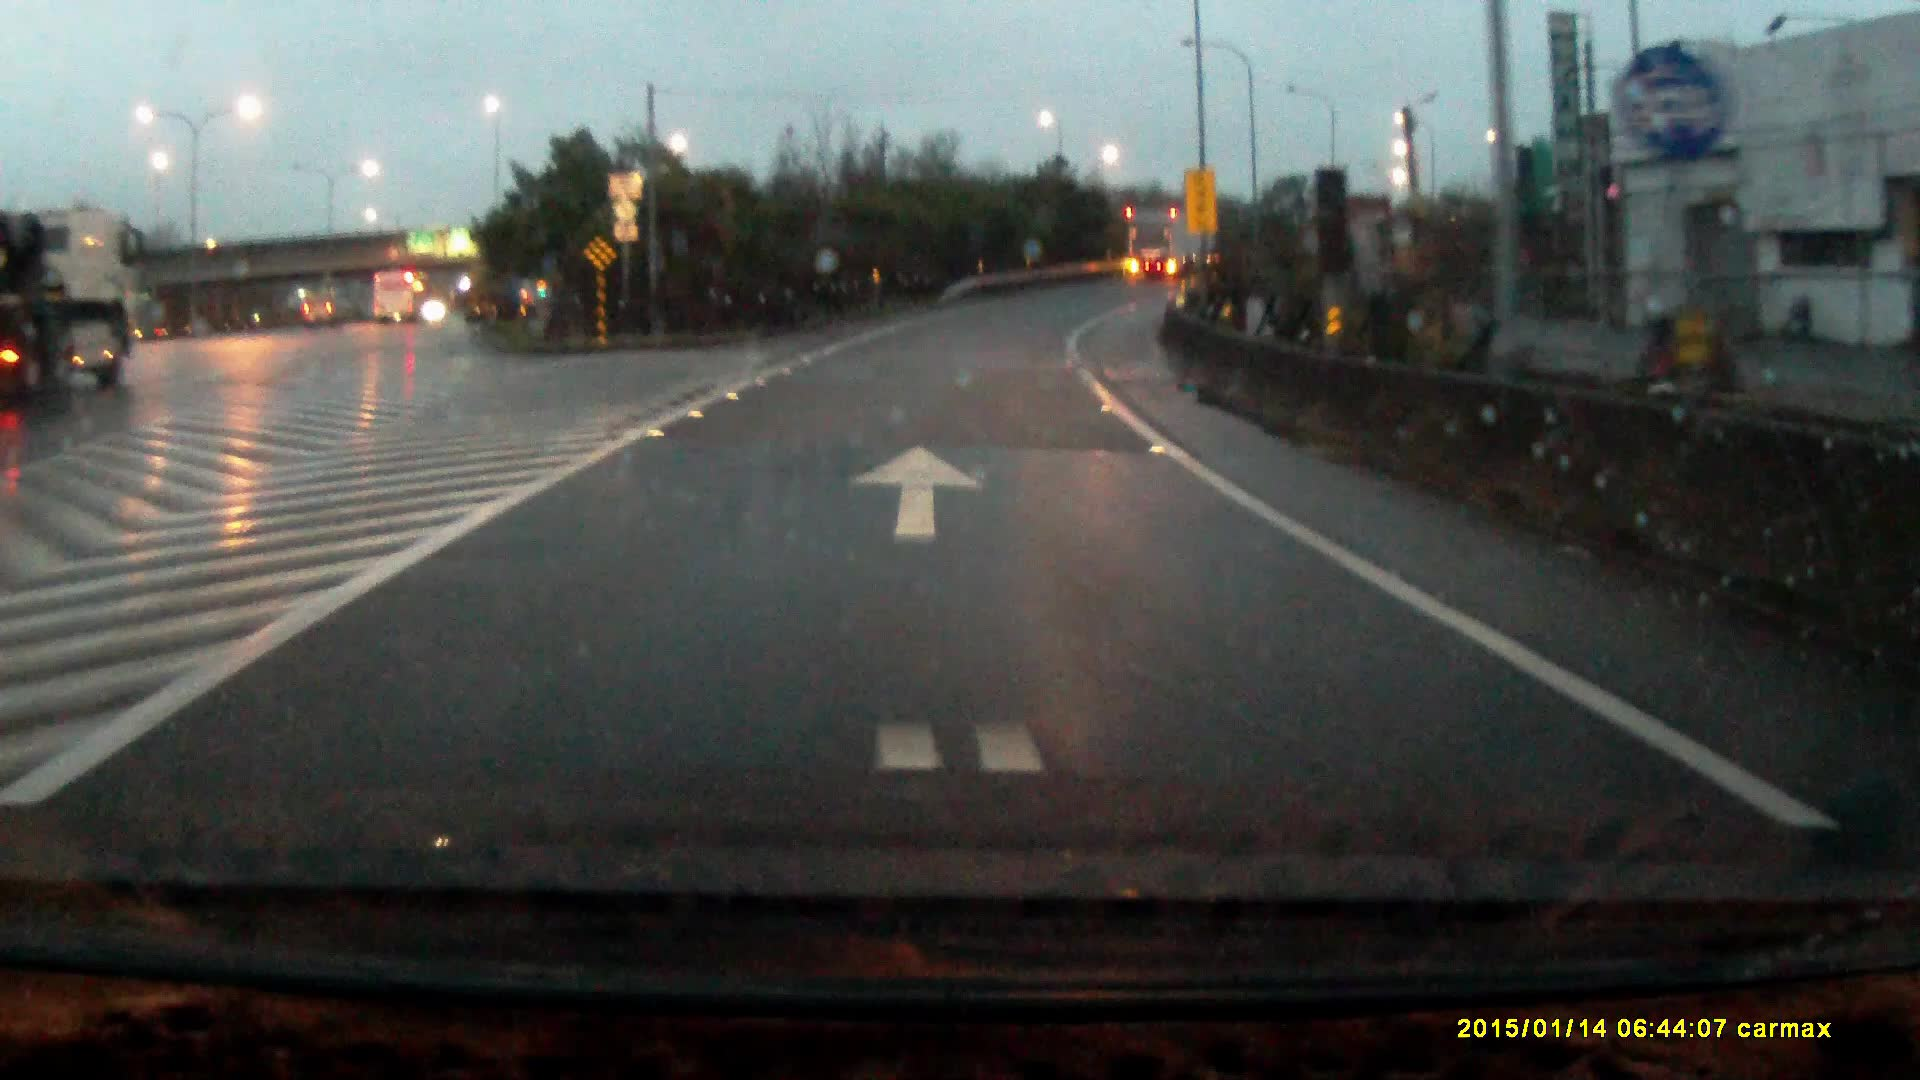vehicle: (1, 208, 146, 404), (1125, 207, 1226, 284), (373, 273, 425, 324), (305, 301, 335, 331)
